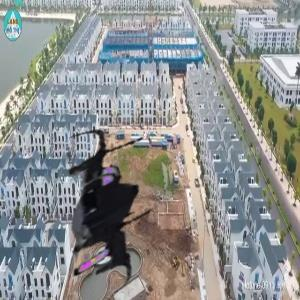drone: (19, 125, 194, 300)
